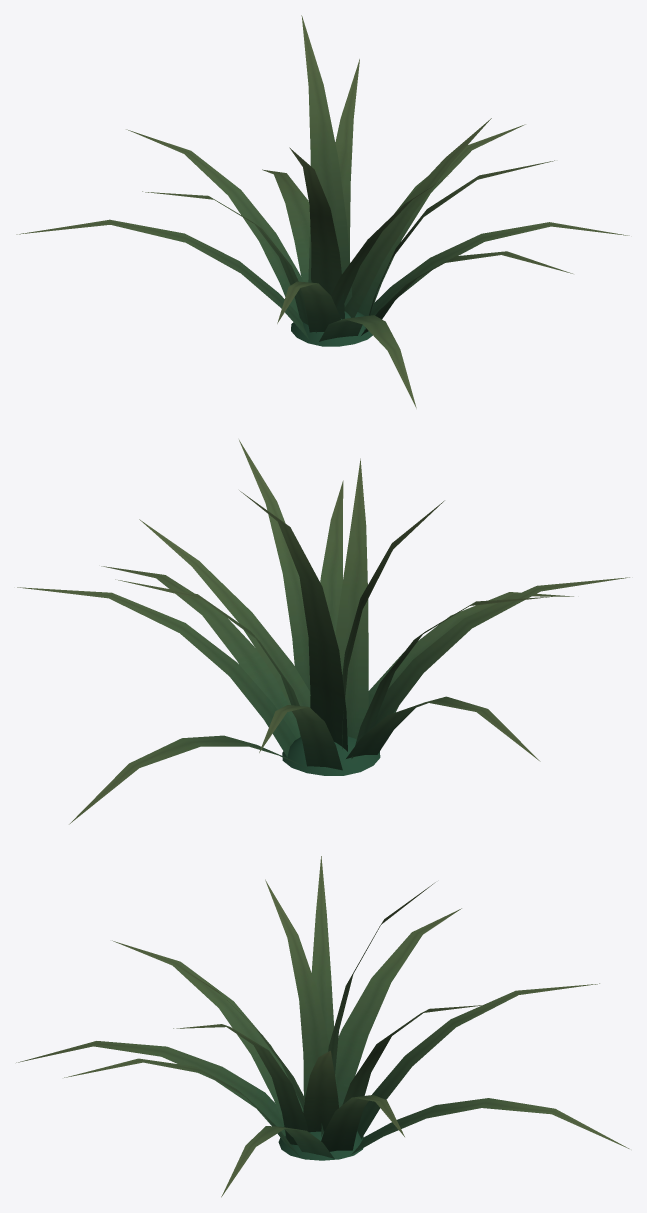
File: GRASS_normals.fbx
The picture shows the model from 3 angles, top to bottom: view 1: azimuth 30°, elevation 25°; view 2: azimuth 150°, elevation 25°; view 3: azimuth 270°, elevation 25°; orthographic projection. The views are drawn at different scales.
Visible parts, largest first — view 1: GrassNormals; view 2: GrassNormals; view 3: GrassNormals.
Part boxes in pixels (x1,y1,x2,y2): GrassNormals: [16, 15, 629, 408]; GrassNormals: [17, 440, 629, 824]; GrassNormals: [16, 856, 629, 1197].
Bounding box in the file's own units: 97.85 × 49.95 × 101.
